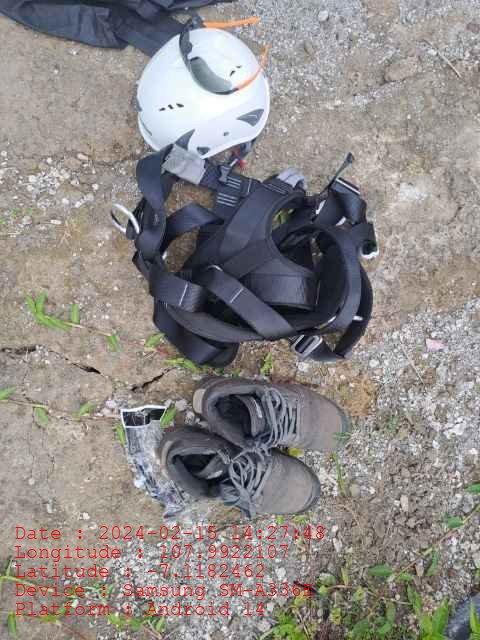HELM: (135, 28, 270, 157)
SEPATU: (160, 377, 348, 516)
